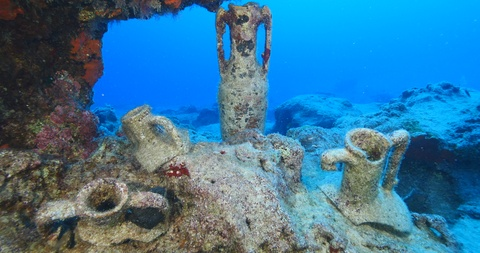amphora: (320, 126, 416, 238), (33, 178, 172, 247), (211, 2, 274, 148), (117, 104, 187, 172)
